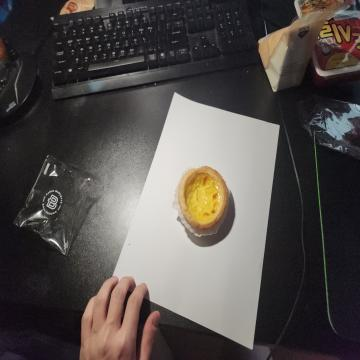EggTart: (178, 165, 228, 230)
